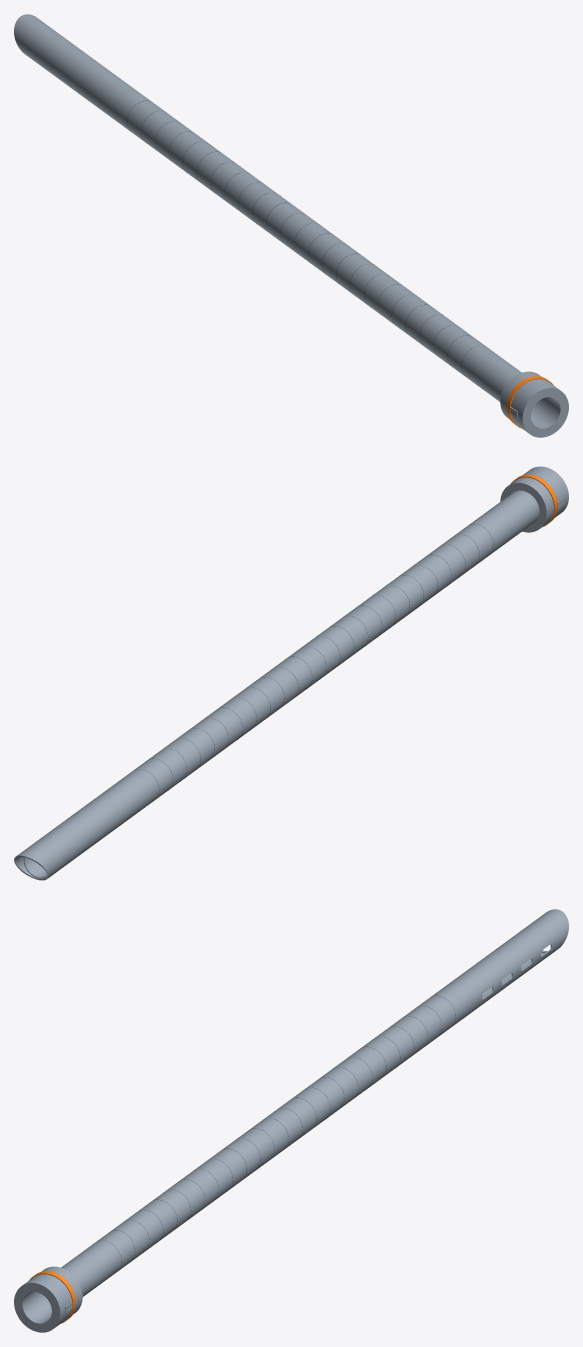
Rendered from bt2000-3-bronchial-tube-od13p20-id12p20mm.glb.
3 views of the same model, one above another, from view 1: azimuth 30°, elevation 25°; view 2: azimuth 150°, elevation 25°; view 3: azimuth 330°, elevation 25° (orthographic).
Visible parts, largest first — view 1: BT2000_3_Hollow_Beveled_Tube, BT2000_3_Quarter_Turn_Connector, BT2000_3_Metric_Depth_Scale; view 2: BT2000_3_Hollow_Beveled_Tube, BT2000_3_Quarter_Turn_Connector, BT2000_3_Metric_Depth_Scale; view 3: BT2000_3_Hollow_Beveled_Tube, BT2000_3_Quarter_Turn_Connector, BT2000_3_Metric_Depth_Scale.
Boxes of the visible parts, x1,y1,x2,y2 form: BT2000_3_Hollow_Beveled_Tube: (14, 14, 539, 410); BT2000_3_Quarter_Turn_Connector: (500, 371, 568, 437); BT2000_3_Metric_Depth_Scale: (127, 100, 483, 371); BT2000_3_Hollow_Beveled_Tube: (14, 490, 539, 880); BT2000_3_Quarter_Turn_Connector: (500, 466, 568, 532); BT2000_3_Metric_Depth_Scale: (137, 524, 493, 794); BT2000_3_Hollow_Beveled_Tube: (43, 909, 568, 1305); BT2000_3_Quarter_Turn_Connector: (14, 1266, 82, 1332); BT2000_3_Metric_Depth_Scale: (99, 995, 455, 1266).
Bounding box in the file's own units: 0.0199 × 0.0199 × 0.374.
